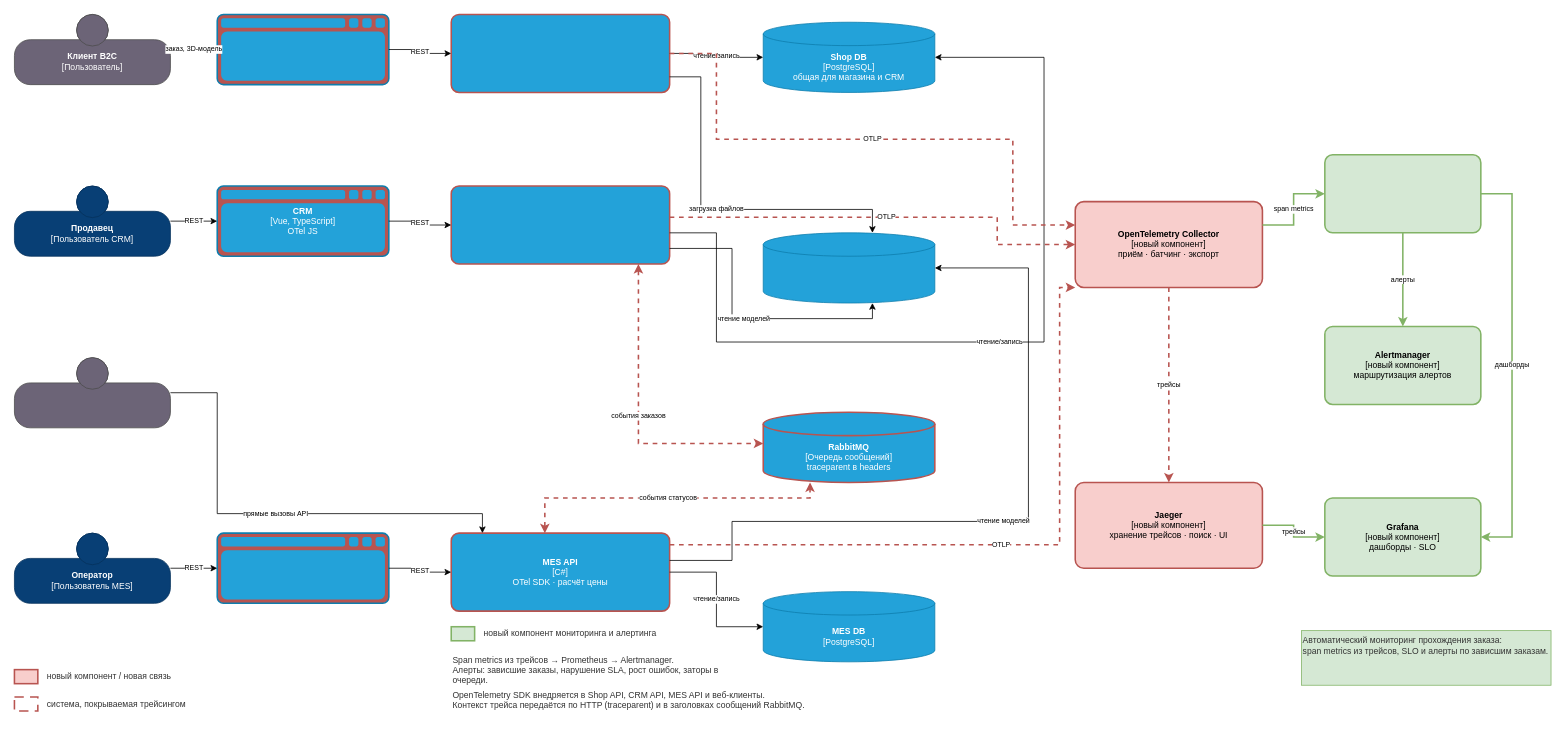
The diagram is 1565 pixels wide and 737 high, and some of its shapes have lost their labels. The shapes that lost their labels are listed below. From the top down, each one's box as (x1, y1, x2, y2) in pixels, then its label:
(216, 13, 389, 85): Онлайн-магазин [Vue, TypeScript, Three.js] OTel JS
(450, 13, 670, 93): Shop API [Spring Boot] OTel SDK
(1324, 154, 1481, 233): Prometheus [новый компонент] span metrics · TSDB
(450, 185, 670, 264): CRM API [Spring Boot] OTel SDK
(762, 232, 935, 303): 3D files storage [S3]
(14, 357, 170, 428): API-партнёр [Внешний продавец]
(216, 532, 389, 604): MES [React, TypeScript] OTel JS
